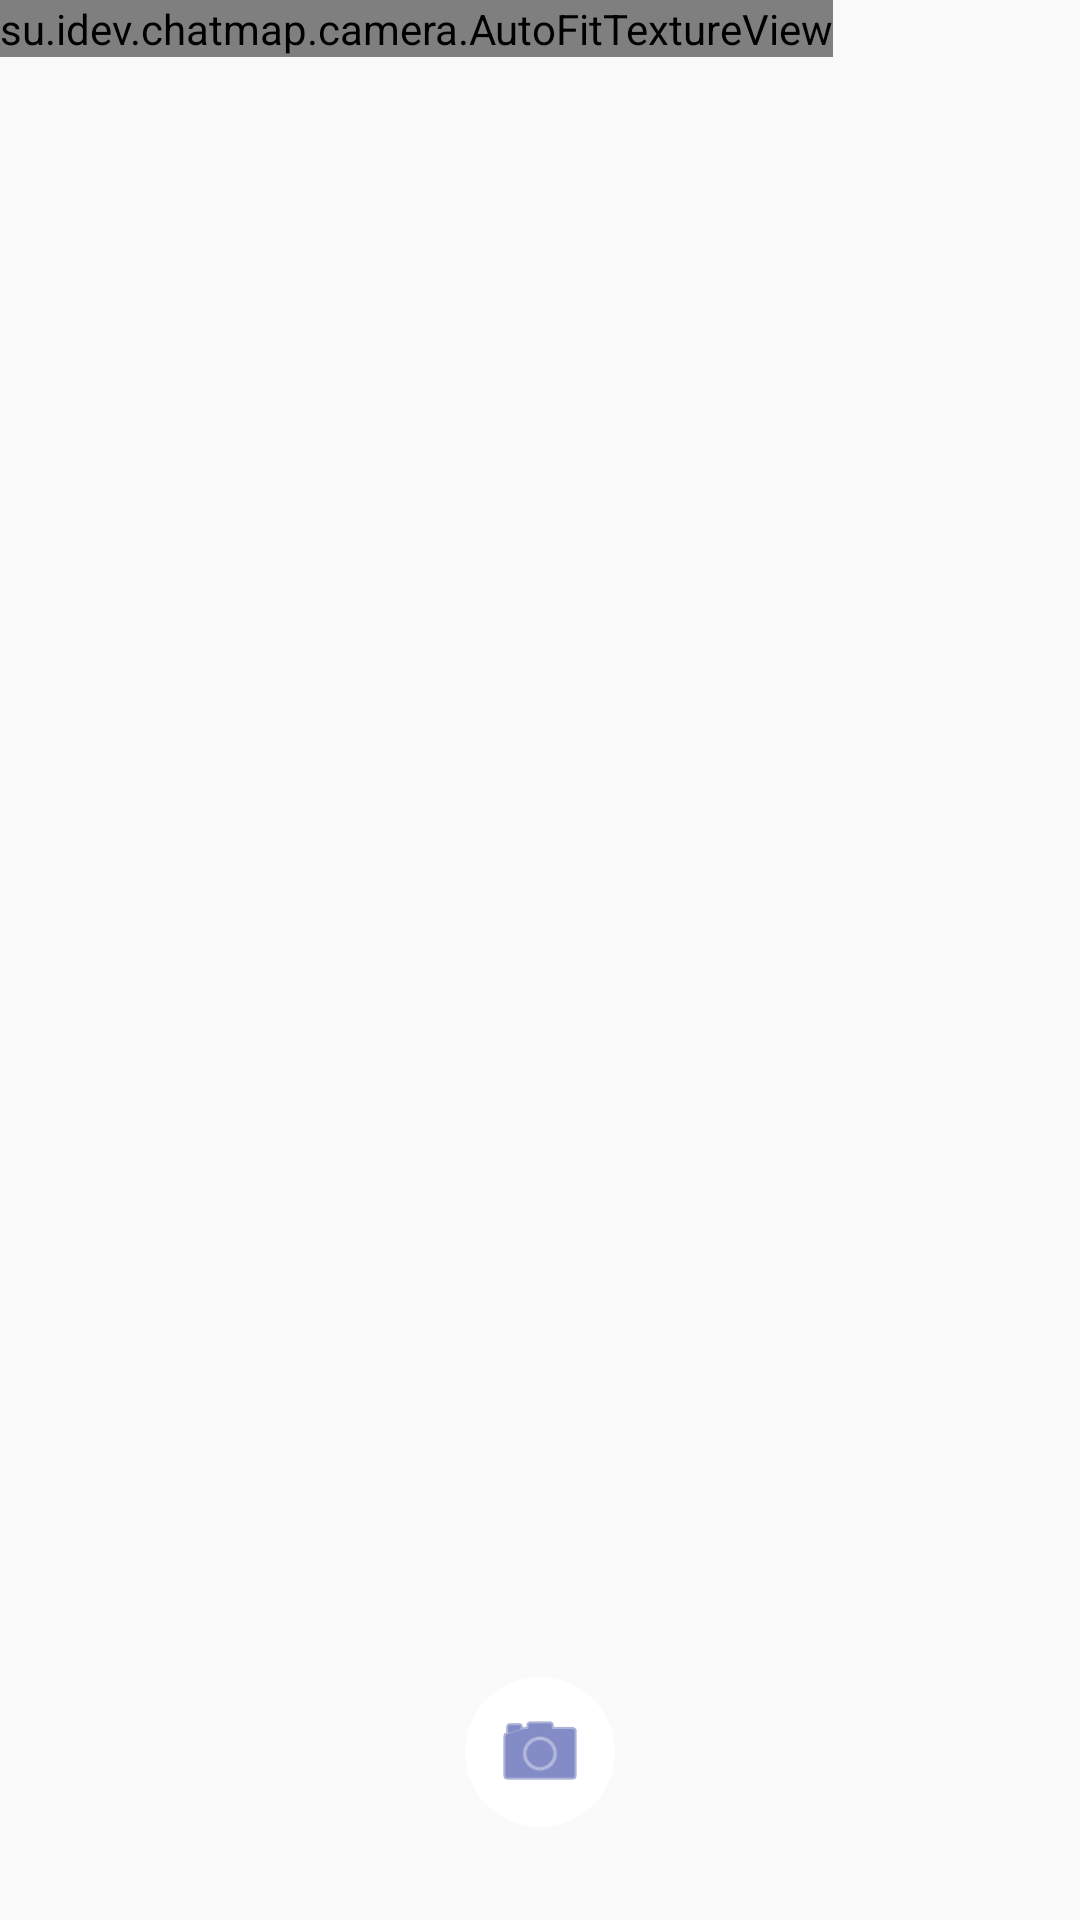

Icons on this 1080w x 1920h Android screen, each with the point to tap as point (x, y):
camera: point (540, 1750)
